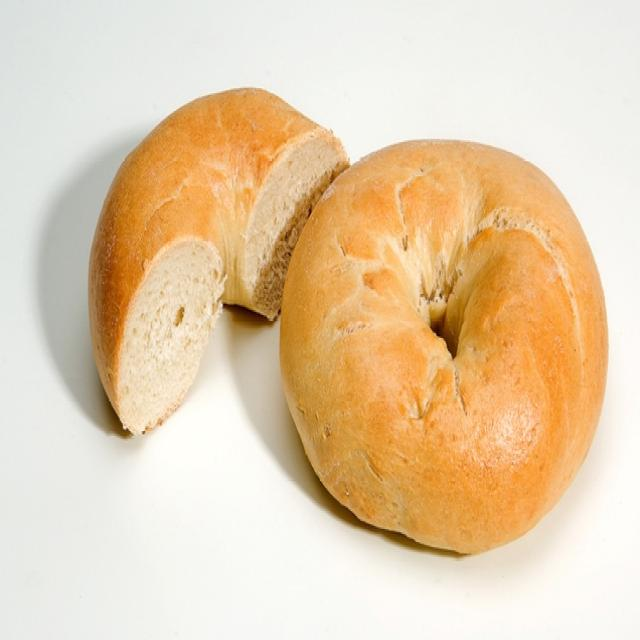面包点心: (65, 65, 616, 575)
